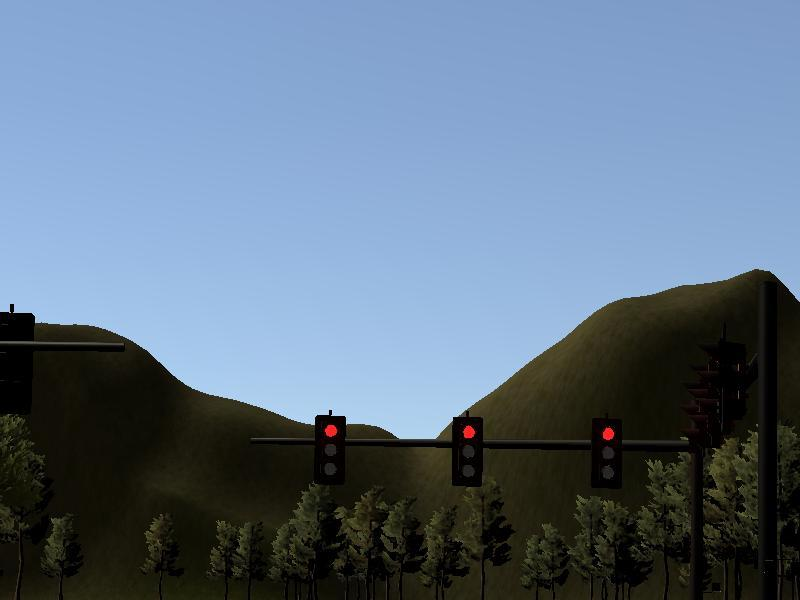Red: (591, 420, 623, 489), (451, 417, 483, 484), (316, 418, 347, 485)
